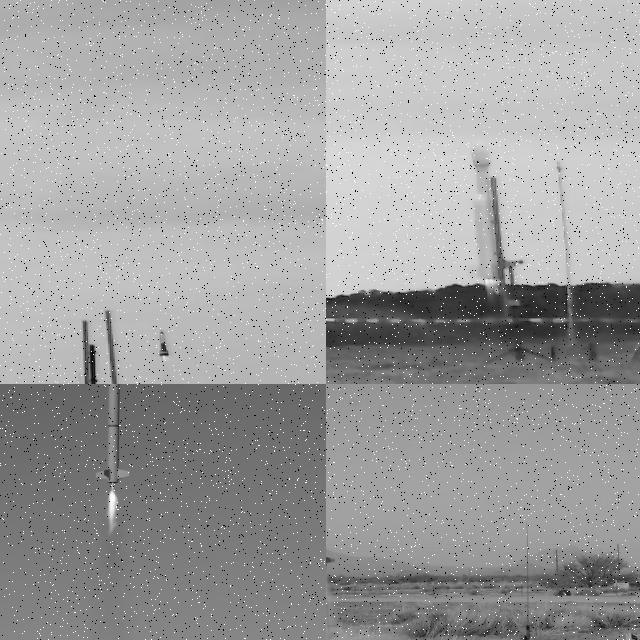Rocket: (469, 138, 504, 280), (94, 384, 130, 484), (326, 458, 335, 566), (157, 329, 171, 357)
